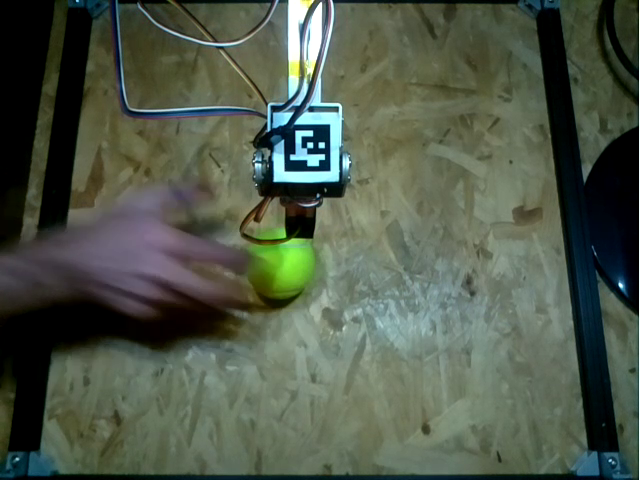tennis_ball: (248, 230, 315, 300)
